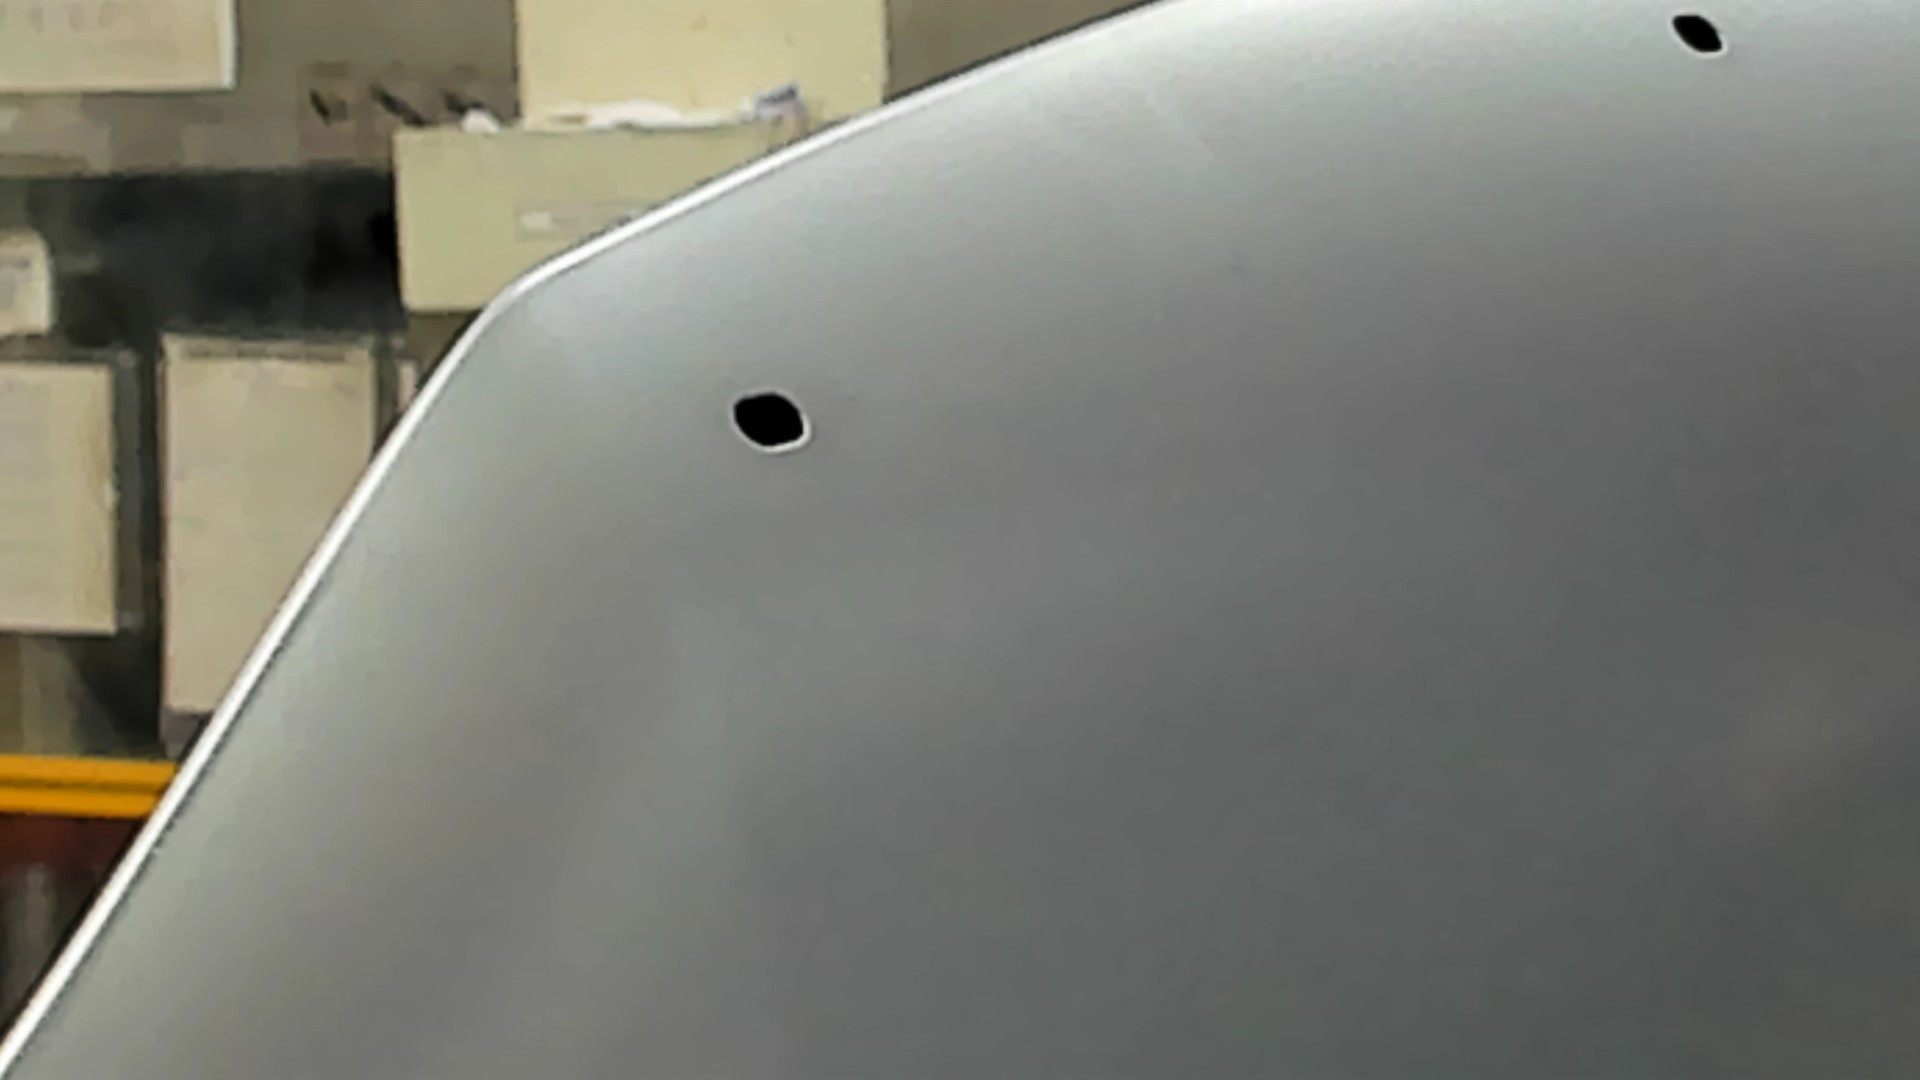amorfo: (731, 381, 816, 463), (1668, 9, 1734, 67)
